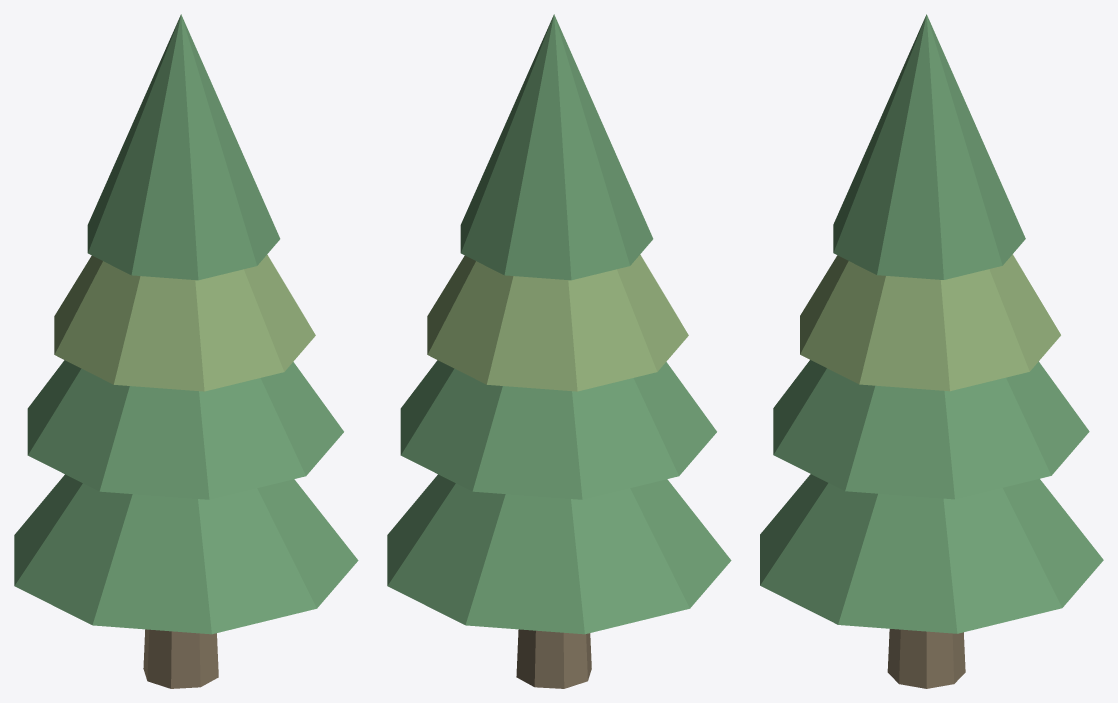
The model's file is pine.glb.
3 renders of one model, left to right at view 1: azimuth 30°, elevation 25°; view 2: azimuth 150°, elevation 25°; view 3: azimuth 270°, elevation 25°, orthographic.
Parts seen in each view (by area): view 1: Cone.001, Cone.003, Cone; view 2: Cone.001, Cone.003, Cone; view 3: Cone.001, Cone.003, Cone.
Part boxes in pixels (x1,y1,x2,y2): Cone.001: (14, 14, 358, 634); Cone.003: (54, 254, 315, 391); Cone: (143, 629, 218, 688); Cone.001: (387, 14, 731, 634); Cone.003: (427, 254, 688, 391); Cone: (516, 629, 591, 688); Cone.001: (760, 14, 1103, 633); Cone.003: (800, 254, 1060, 391); Cone: (887, 629, 965, 688).
Size of the model in its own units: 9.85 by 20.5 by 9.7.
